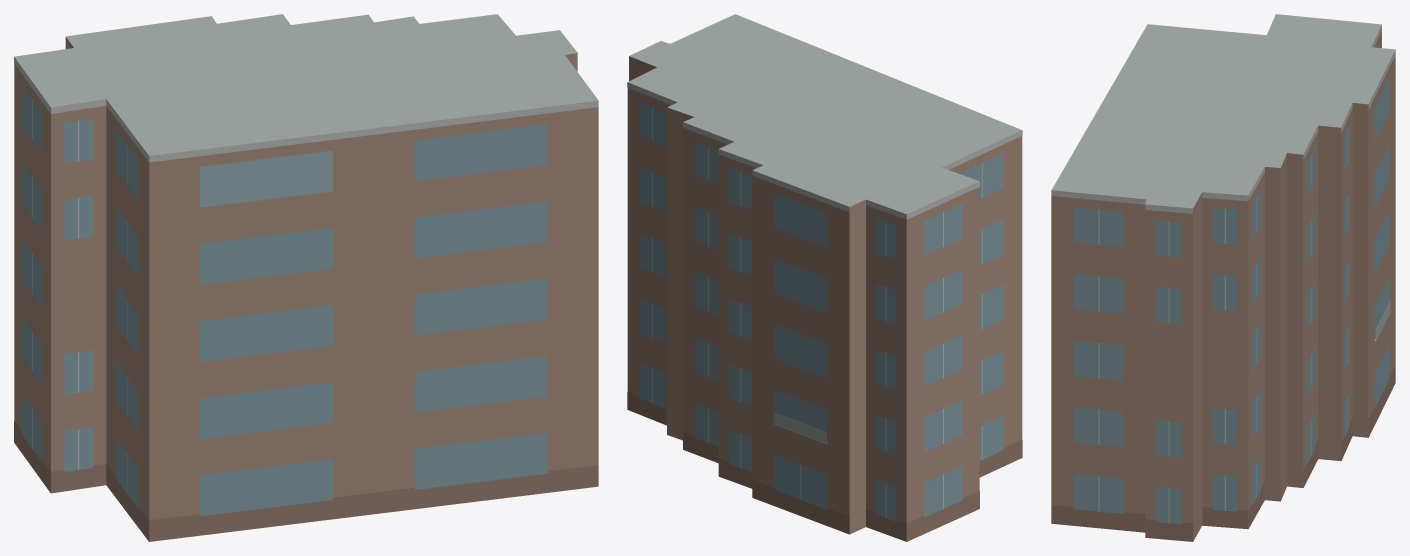
The model's file is survey-upis-32983304.glb.
3 views of the same model, side by side, from view 1: azimuth 30°, elevation 25°; view 2: azimuth 150°, elevation 25°; view 3: azimuth 270°, elevation 25° (orthographic). The views are drawn at different scales.
Visible parts, largest first — view 1: survey-upis-32983304.tmp; view 2: survey-upis-32983304.tmp; view 3: survey-upis-32983304.tmp.
Boxes of the visible parts, <box> form: survey-upis-32983304.tmp: <box>14,14,598,541</box>; survey-upis-32983304.tmp: <box>627,14,1022,541</box>; survey-upis-32983304.tmp: <box>1051,14,1395,541</box>.
Size of the model in its own units: 18.21 by 14.55 by 13.62.
